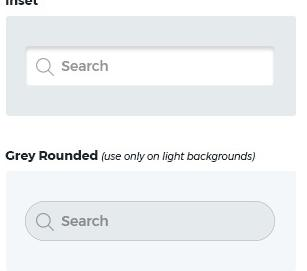field: (24, 199, 275, 242), (24, 46, 274, 86)
